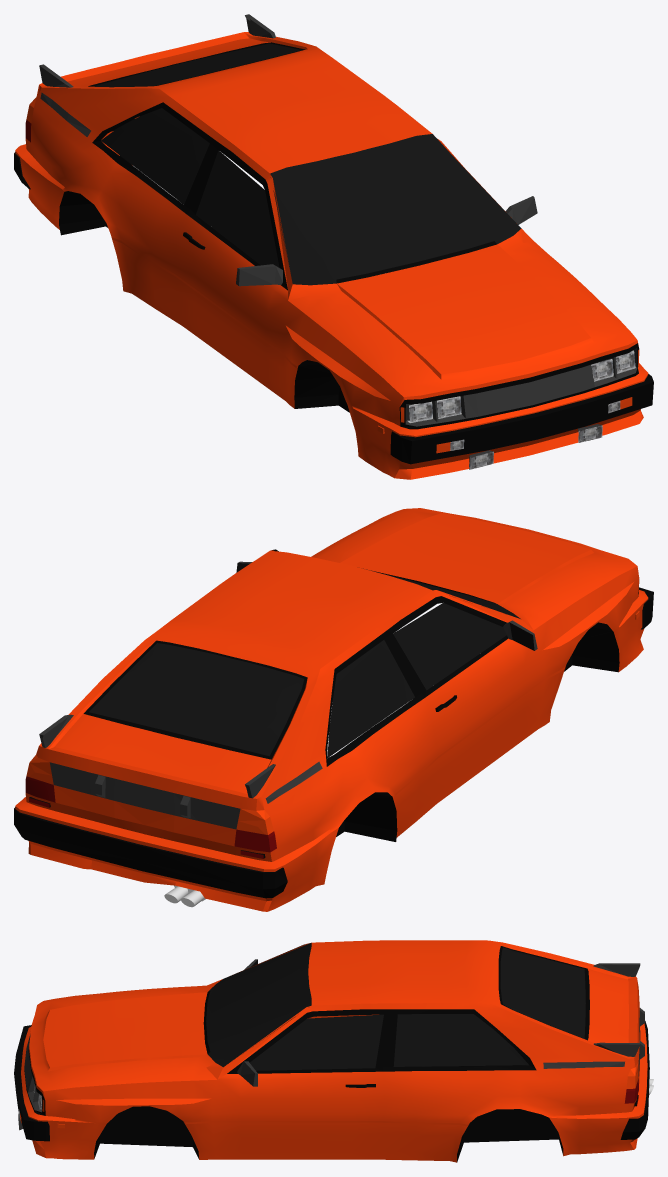
Rendered from PlayerCar1.FBX.
3 renders of one model, top to bottom at view 1: azimuth 30°, elevation 25°; view 2: azimuth 150°, elevation 25°; view 3: azimuth 270°, elevation 25°, orthographic. The views are drawn at different scales.
Visible parts, largest first — view 1: PaintableBody, Windows, NotPaintableBody, Headlights; view 2: PaintableBody, Windows, NotPaintableBody, BrakeLights; view 3: PaintableBody, Windows, NotPaintableBody.
Boxes of the visible parts, box(x1,y1,x2,y2) form: PaintableBody: box(15, 32, 648, 479); Windows: box(93, 43, 521, 285); NotPaintableBody: box(14, 14, 653, 469); Headlights: box(400, 349, 639, 469); PaintableBody: box(15, 508, 648, 911); Windows: box(89, 568, 520, 757); NotPaintableBody: box(14, 549, 653, 907); BrakeLights: box(25, 776, 276, 858); PaintableBody: box(21, 940, 647, 1162); Windows: box(206, 943, 585, 1070); NotPaintableBody: box(14, 944, 653, 1162).
Bounding box in the file's own units: 41.88 × 24.45 × 98.02.
